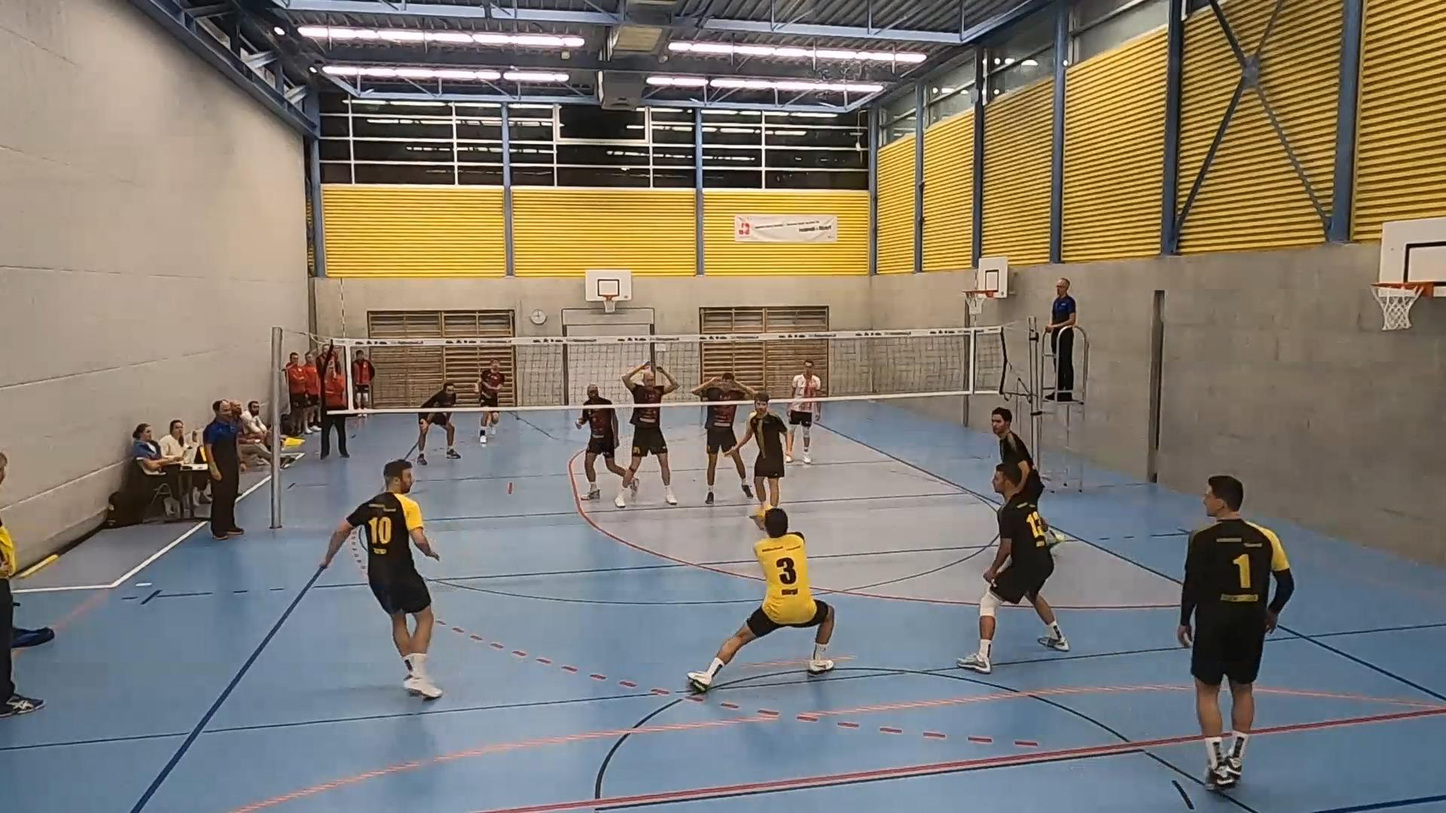ricezione: (685, 502, 839, 698)
